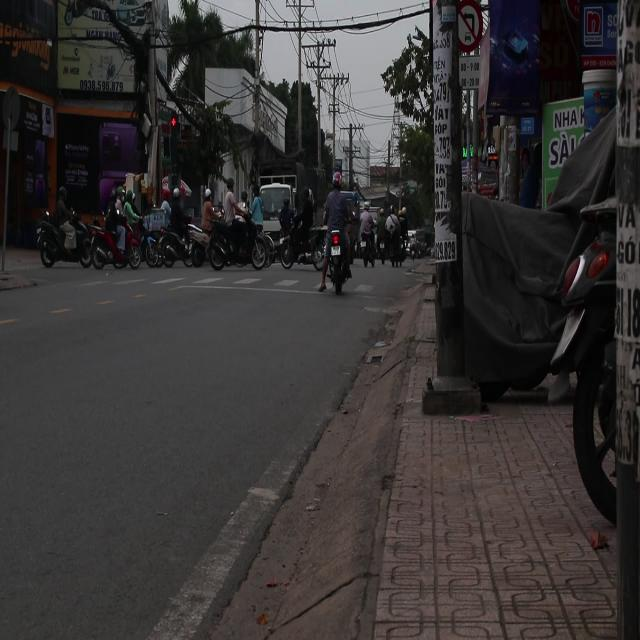motorbike: (35, 196, 96, 269), (210, 209, 270, 270), (85, 209, 136, 270), (156, 223, 208, 270), (275, 220, 312, 270), (136, 219, 168, 269)
truck: (258, 165, 316, 229)
